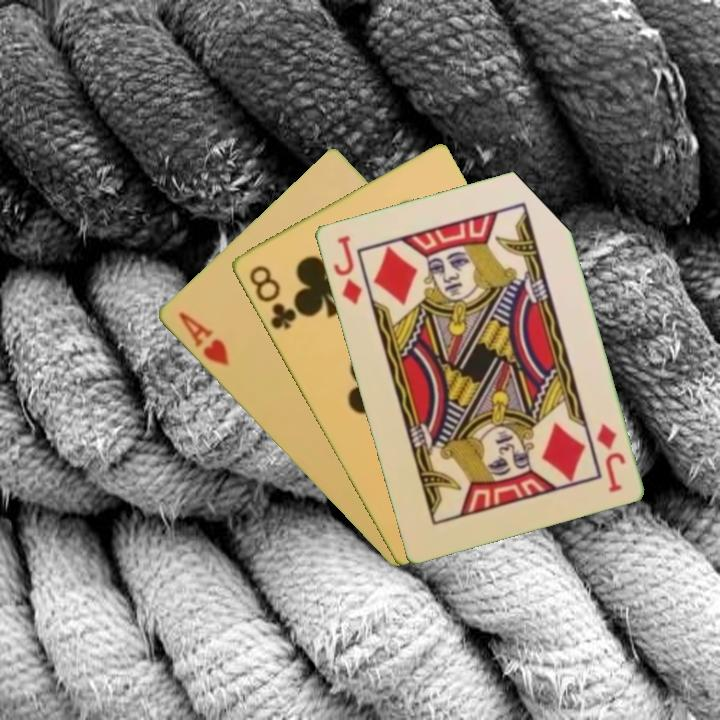8c: (245, 261, 299, 332)
Ah: (174, 307, 232, 369)
Jd: (329, 231, 365, 308), (592, 419, 628, 495)
